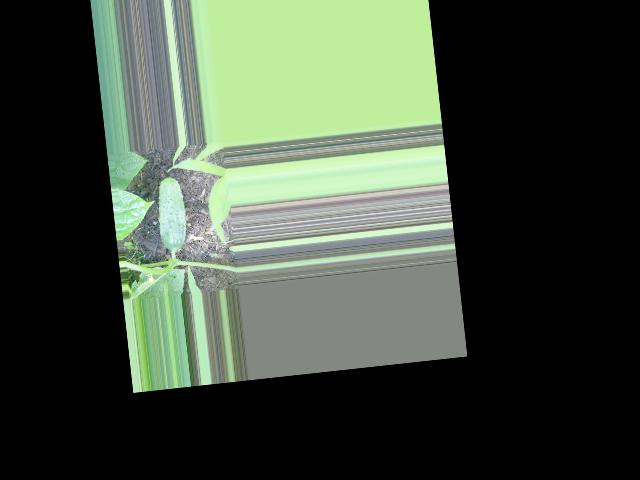cucumber: (154, 175, 189, 251)
